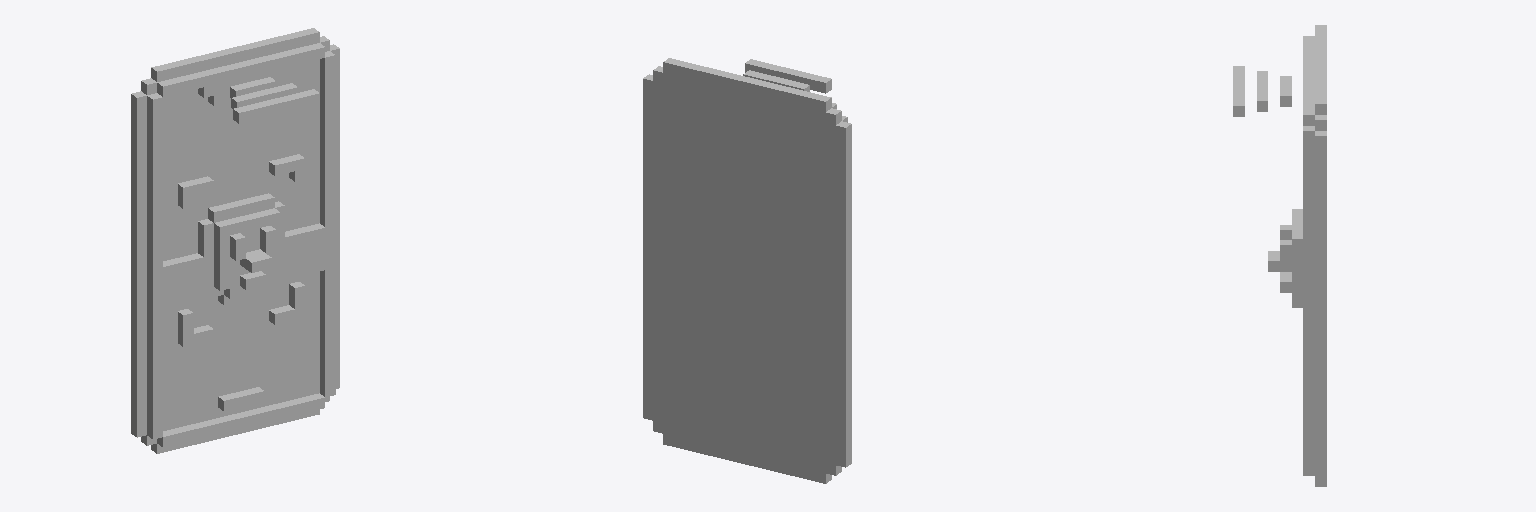
The model's file is phoneScan.obj.
The picture shows the model from 3 angles: view 1: azimuth 30°, elevation 25°; view 2: azimuth 150°, elevation 25°; view 3: azimuth 270°, elevation 25°; orthographic projection.
Size of the model in its own units: 20 by 36 by 8.